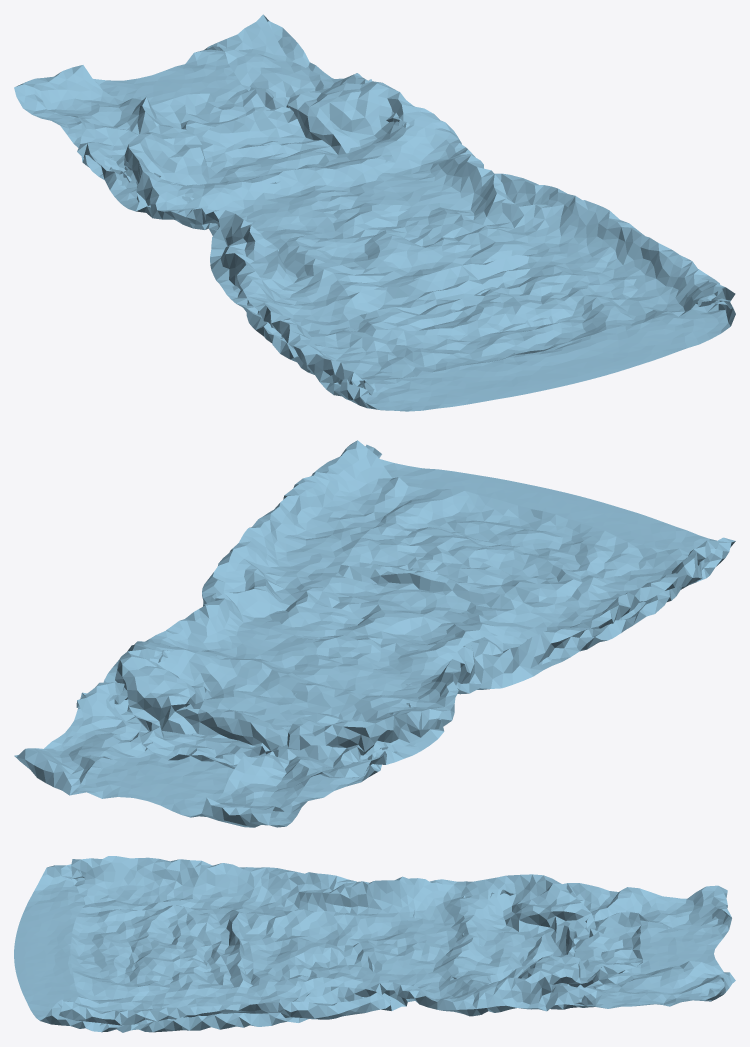
Rendered from frame_00.glb.
3 views of the same model, one above another, from view 1: azimuth 30°, elevation 25°; view 2: azimuth 150°, elevation 25°; view 3: azimuth 270°, elevation 25° (orthographic). The views are drawn at different scales.
Visible parts, largest first — view 1: frame_00.obj; view 2: frame_00.obj; view 3: frame_00.obj.
Boxes of the visible parts, left/top/right/bottom form: frame_00.obj: left=14, top=14, right=735, bottom=411; frame_00.obj: left=14, top=440, right=735, bottom=827; frame_00.obj: left=14, top=856, right=735, bottom=1032.
Bounding box in the file's own units: 0.9659 × 0.1075 × 1.86.
